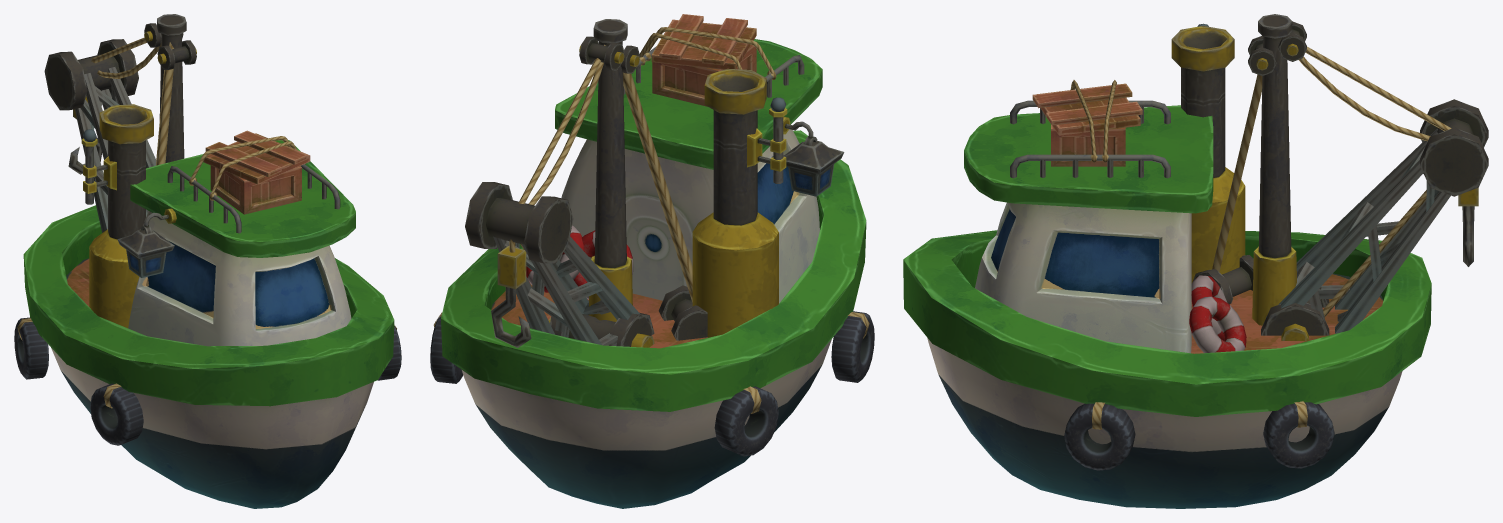
Rendered from Ship_Fishingboat.fbx.
3 views of the same model, side by side, from view 1: azimuth 30°, elevation 25°; view 2: azimuth 150°, elevation 25°; view 3: azimuth 270°, elevation 25° (orthographic). The views are drawn at different scales.
Visible parts, largest first — view 1: Ship_Fishingboat; view 2: Ship_Fishingboat; view 3: Ship_Fishingboat.
Boxes of the visible parts, x1,y1,x2,y2 form: Ship_Fishingboat: (14,14,401,508); Ship_Fishingboat: (430,14,874,508); Ship_Fishingboat: (903,14,1488,508).
Size of the model in its own units: 188 by 252 by 289.
Materials: 1 (1 with a texture image).
